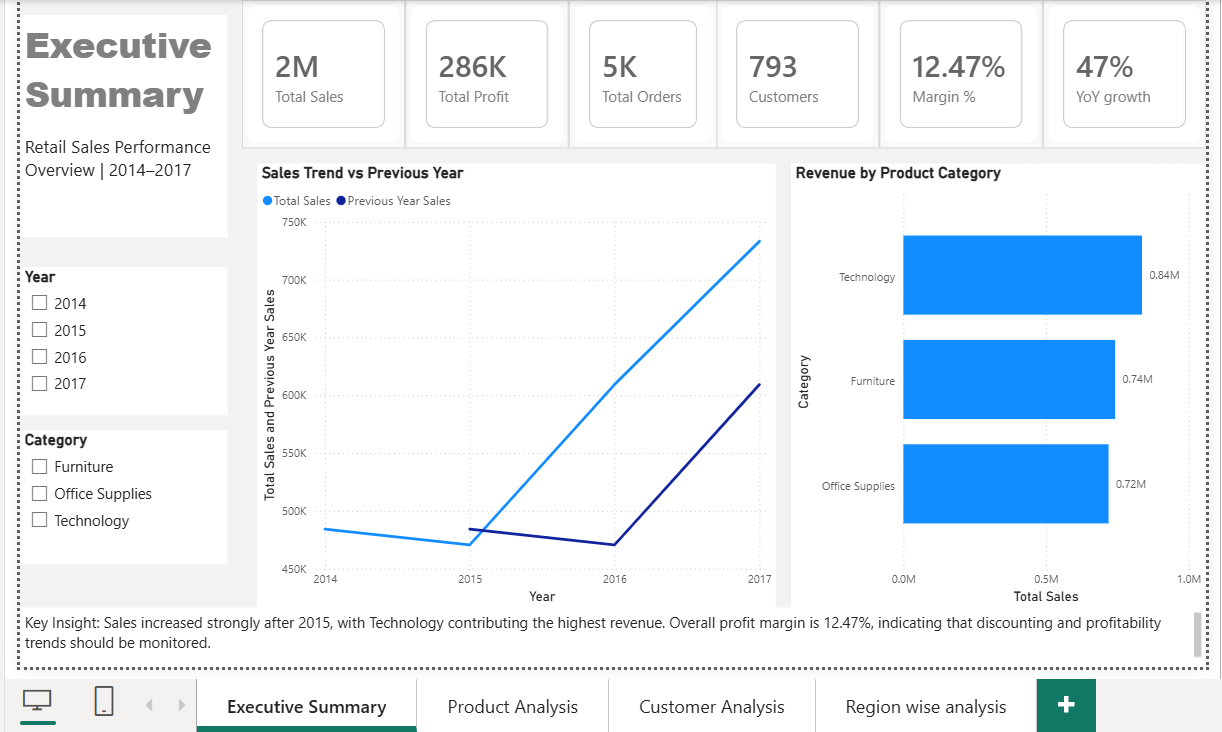

What the dashboard file says about the page in this screenshot:
{"tool":"powerbi","page":{"name":"Executive Summary","canvas":[1280,720],"ordinal":0},"visuals":[{"type":"cardVisual","fields":{"Data":["_Measures.Profit Margin %"]},"box":[928,0,176,160],"z":0},{"type":"cardVisual","fields":{"Data":["_Measures.Total Customers"]},"box":[752,0,176,160],"z":1000},{"type":"cardVisual","fields":{"Data":["_Measures.Total Orders"]},"box":[592,0,160,160],"z":2000},{"type":"cardVisual","fields":{"Data":["_Measures.Total Profit"]},"box":[416,0,176,160],"z":3000},{"type":"cardVisual","title":"Total Sales ","fields":{"Data":["_Measures.Total Sales"]},"box":[240,0,176,160],"z":4000},{"type":"lineChart","title":"Sales Trend vs Previous Year","fields":{"Y":["_Measures.Total Sales","_Measures.Previous Year Sales"],"Category":["DimDate.Year"]},"box":[256,176,560,480],"z":5000},{"type":"clusteredBarChart","title":"Revenue by Product Category","fields":{"Y":["_Measures.Total Sales"],"Category":["DimProducts.Category"]},"box":[832,176,448,480],"z":6000},{"type":"slicer","title":"Year","fields":{"Values":["DimDate.Year"]},"box":[0,288,224,160],"z":7000},{"type":"slicer","title":"Category","fields":{"Values":["DimProducts.Category"]},"box":[0,464,224,144],"z":8000},{"type":"textbox","box":[0,16,224,240],"z":9000},{"type":"cardVisual","title":"Total Sales ","fields":{"Data":["_Measures.YoY growth"]},"box":[1104,0,176,160],"z":10000},{"type":"textbox","box":[0,656,1280,64],"z":11000}]}

Visuals, with their boxes on the page's 1280x720 design canvas (x1, y1, x2, y2). These are canvas units, not pixel positions in the 1222x732 screenshot, which may show the page scaled, cropped or inside an application window:
cardVisual - _Measures.Profit Margin %: 928,0,1104,160
cardVisual - _Measures.Total Customers: 752,0,928,160
cardVisual - _Measures.Total Orders: 592,0,752,160
cardVisual - _Measures.Total Profit: 416,0,592,160
"Total Sales " cardVisual: 240,0,416,160
"Sales Trend vs Previous Year" lineChart: 256,176,816,656
"Revenue by Product Category" clusteredBarChart: 832,176,1280,656
"Year" slicer: 0,288,224,448
"Category" slicer: 0,464,224,608
textbox: 0,16,224,256
"Total Sales " cardVisual: 1104,0,1280,160
textbox: 0,656,1280,720
